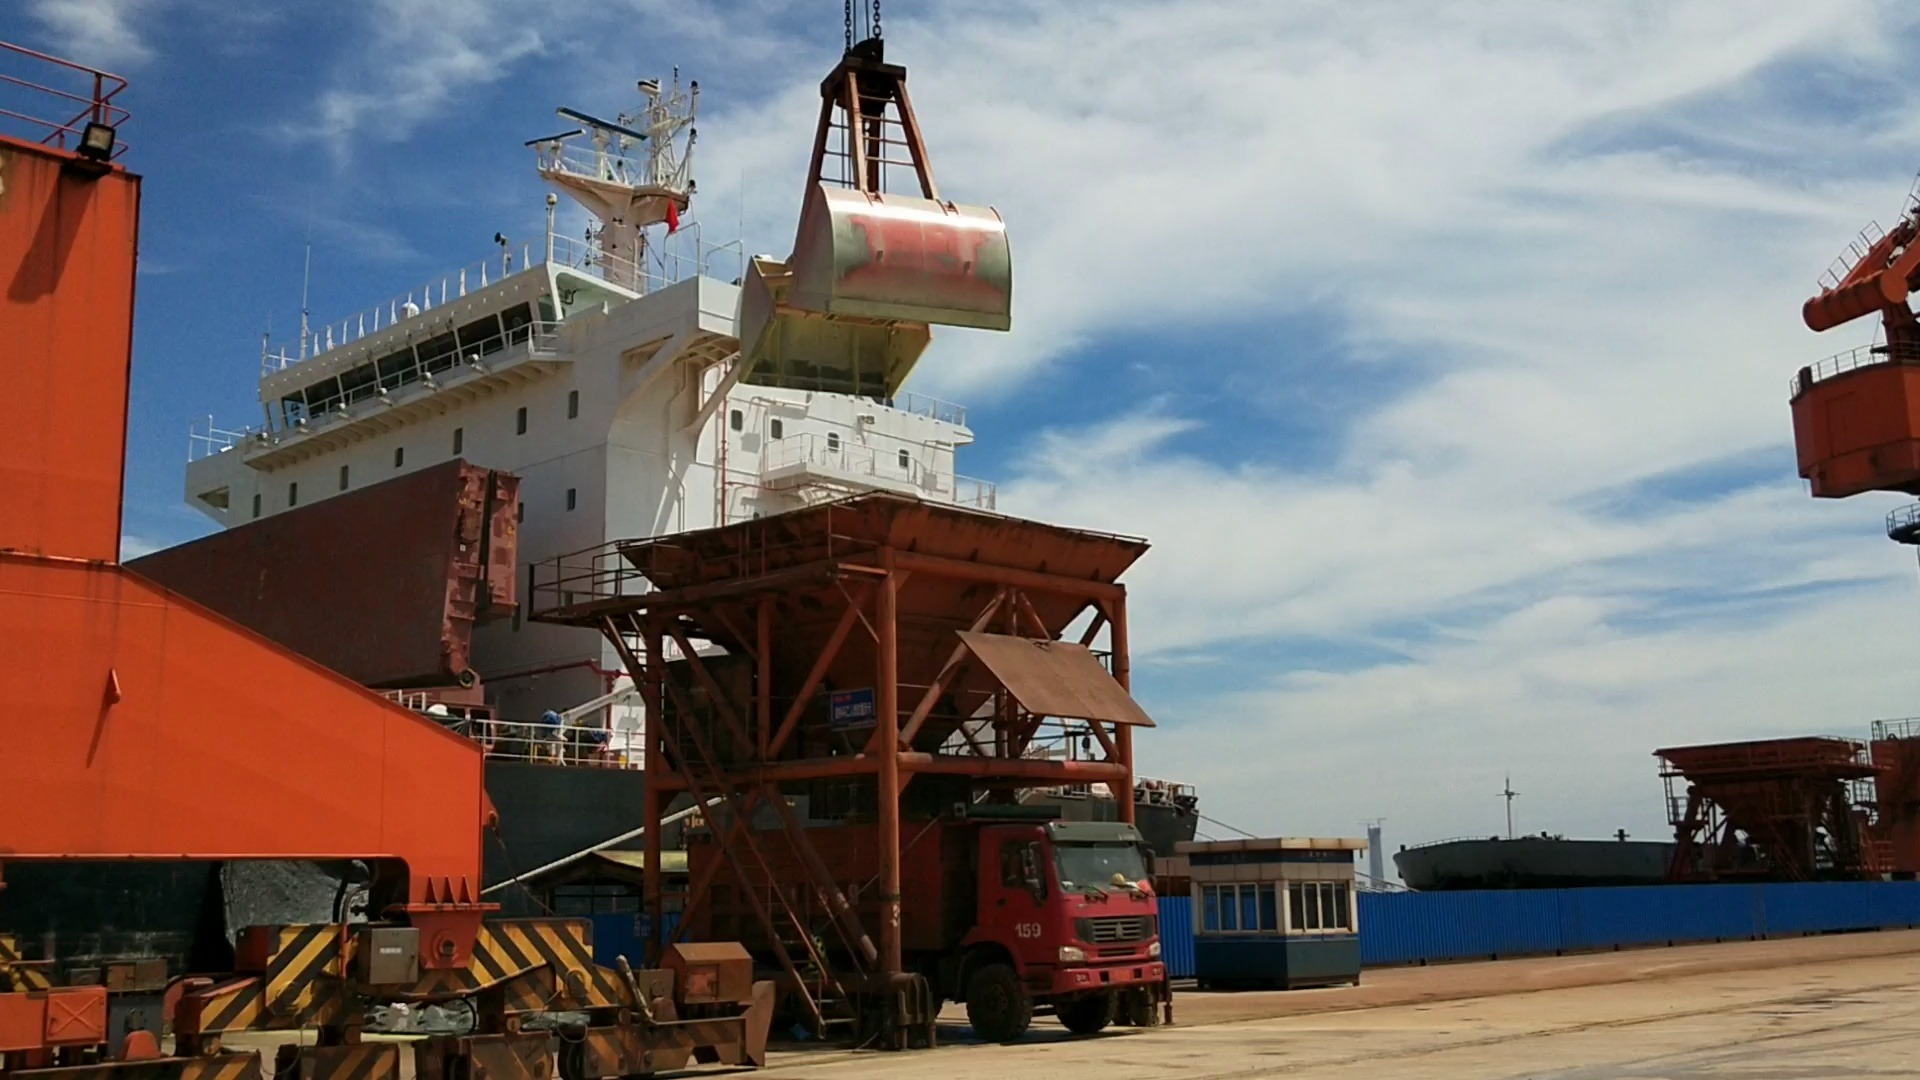grab: (727, 11, 1023, 405)
truck: (901, 782, 1180, 1056)
